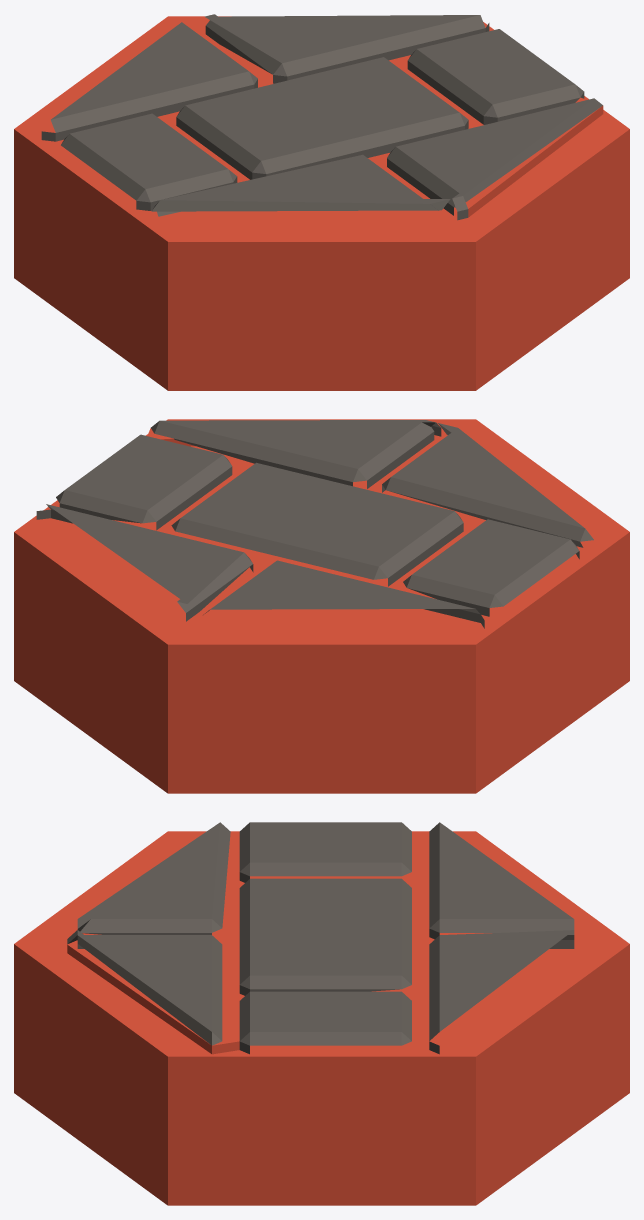
File: terreno.fbx
3 views of the same model, one above another, from view 1: azimuth 30°, elevation 25°; view 2: azimuth 150°, elevation 25°; view 3: azimuth 270°, elevation 25° (orthographic).
Visible parts, largest first — view 1: floor; view 2: floor; view 3: floor.
Boxes of the visible parts, x1,y1,x2,y2 form: floor: (14,14,629,390); floor: (14,419,629,793); floor: (14,822,629,1205).
Bounding box in the file's own units: 1956 × 676 × 2258.
